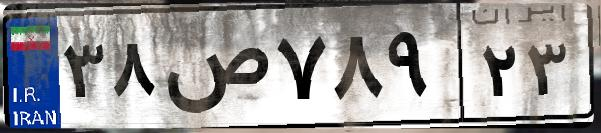2: (475, 38, 525, 113)
3: (57, 26, 110, 100), (525, 38, 570, 115)
7: (270, 28, 330, 110)
8: (330, 28, 385, 110), (110, 28, 158, 98)
9: (385, 28, 445, 110)
ص: (158, 20, 270, 120)
